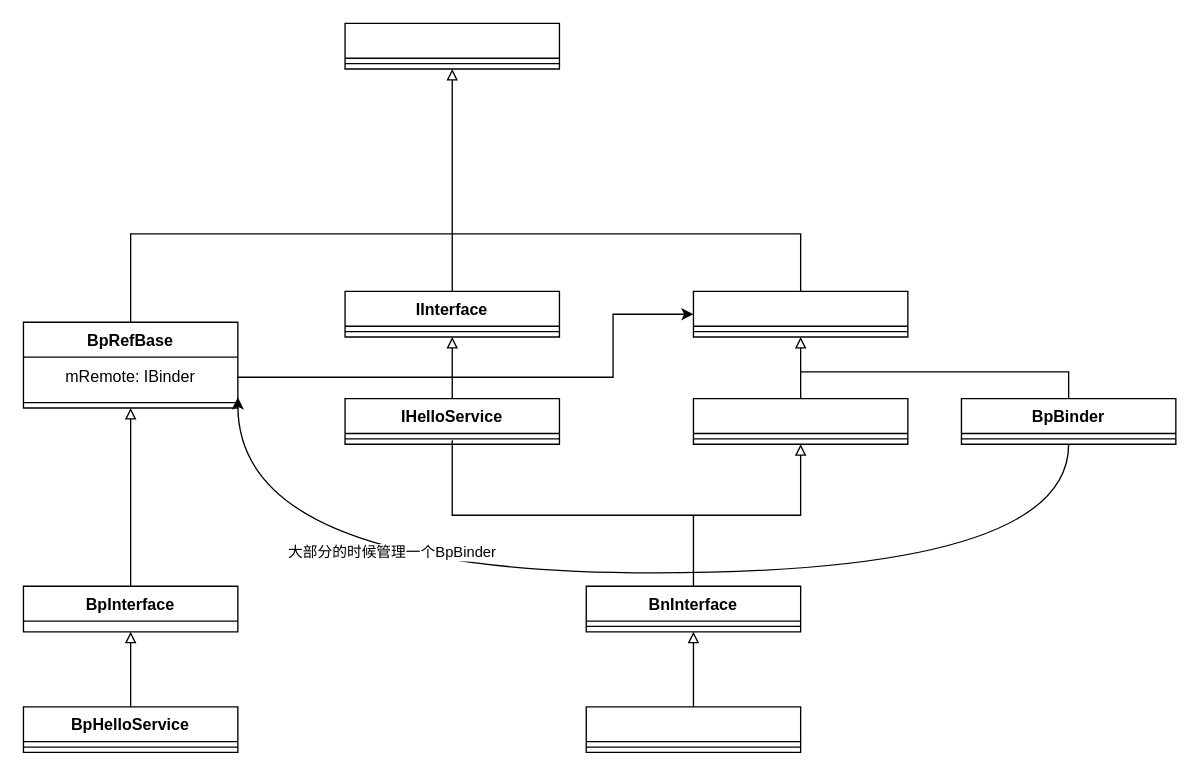
Some shapes in this 1199 by 776 pixel diagram are drawn without their labels. Here are the shapes that lost their labels. From the top down, the centre of each, then its label:
(x=451, y=45): RefBase
(x=800, y=313): IBinder
(x=800, y=420): BBinder
(x=693, y=729): BnHelloService
